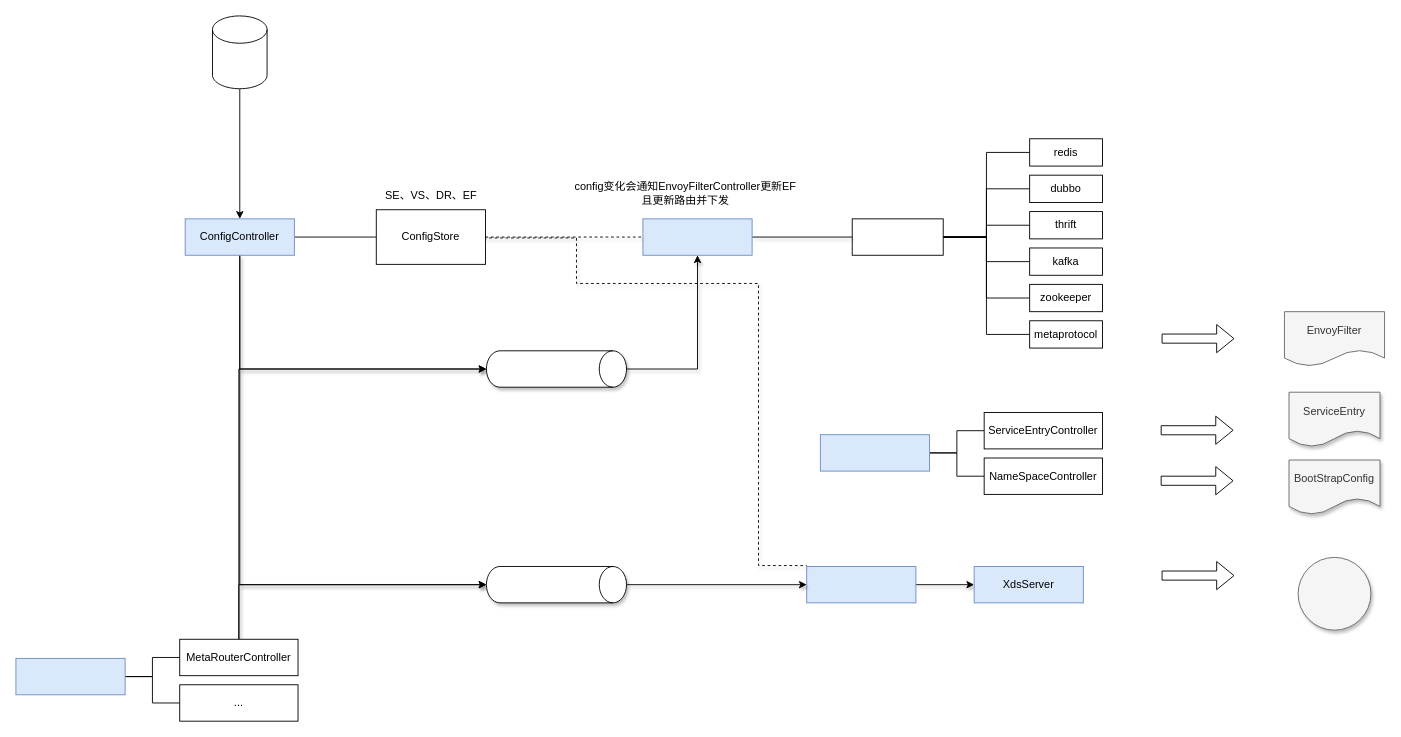
Some shapes in this 1401 by 737 pixel diagram are drawn without their labels. Here are the shapes that lost their labels. From the top down, the centre of each, then its label:
At (x=239, y=52): "Istio".
At (x=697, y=236): "EnvoyFilterController".
At (x=897, y=236): "InitGenerator".
At (x=874, y=452): "singletonCtrlMgr".
At (x=861, y=584): "RouteCacheMgr".
At (x=1335, y=595): "Sidecar".
At (x=70, y=676): "scalableCtrlMgr".
